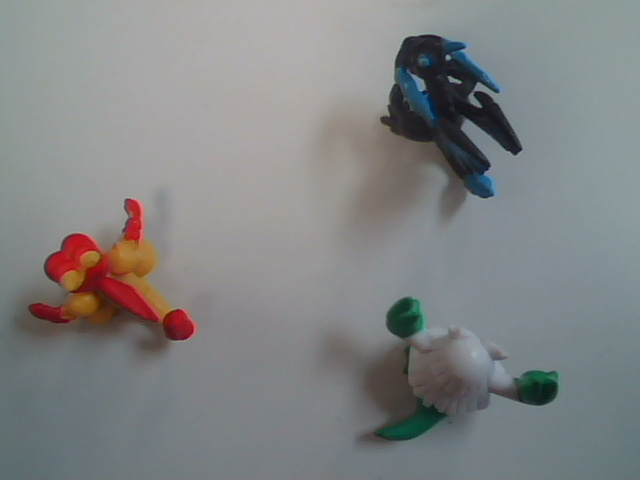abomasnow: (345, 284, 578, 472)
charizard: (353, 20, 574, 230)
magmar: (12, 178, 229, 371)
